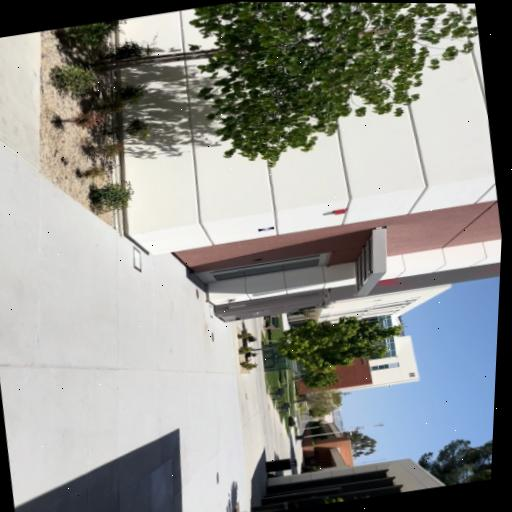target2: (258, 226, 273, 232)
